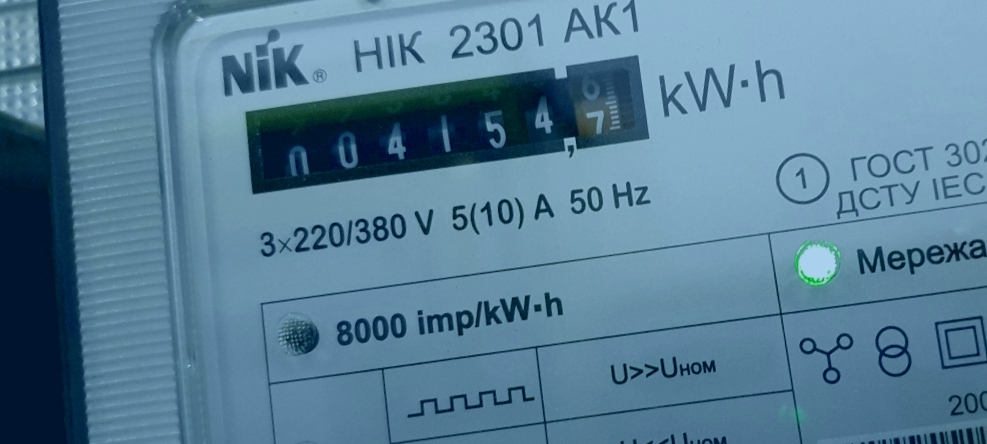0: (333, 127, 360, 171), (284, 139, 310, 176)
1: (435, 111, 454, 154)
4: (381, 118, 409, 162), (528, 90, 554, 136)
5: (480, 103, 510, 150)
6: (577, 69, 603, 101)
7: (582, 105, 607, 136)
screen: (223, 38, 668, 209)
